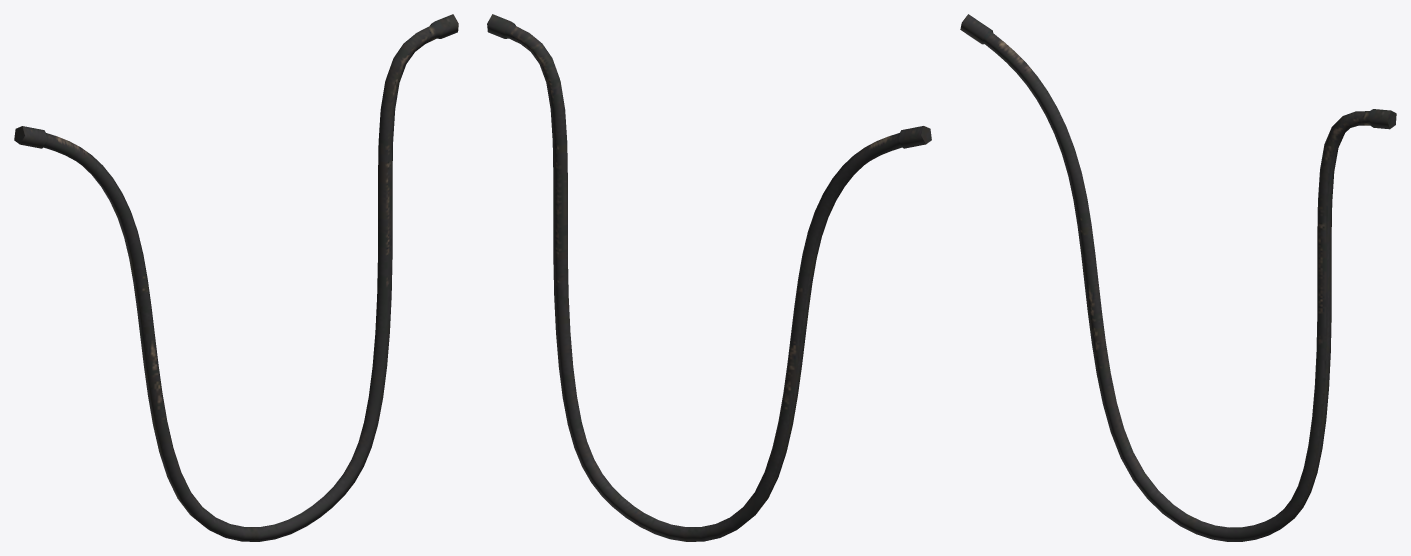
The model's file is plane_wreckage_cable_03.dae.
3 renders of one model, left to right at view 1: azimuth 30°, elevation 25°; view 2: azimuth 150°, elevation 25°; view 3: azimuth 330°, elevation 25°, orthographic.
Visible parts, largest first — view 1: plane_wreckage_cable_03; view 2: plane_wreckage_cable_03; view 3: plane_wreckage_cable_03.
Boxes of the visible parts, x1,y1,x2,y2 form: plane_wreckage_cable_03: (14,14,458,541); plane_wreckage_cable_03: (487,14,931,541); plane_wreckage_cable_03: (960,14,1396,541).
Bounding box in the file's own units: 57.29 × 59.95 × 2.19.
